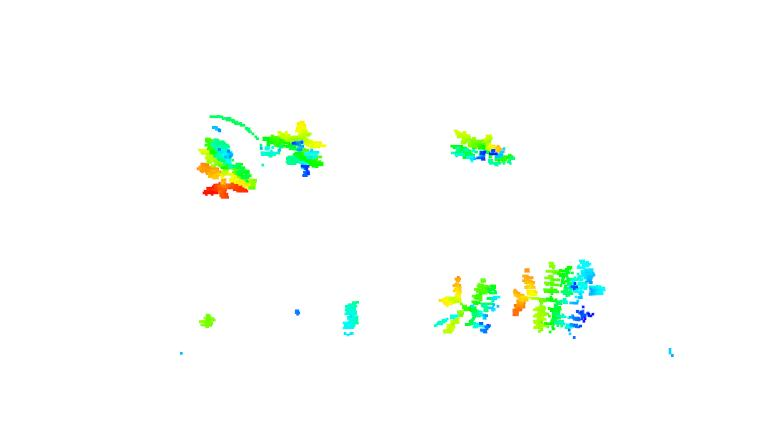chickpea: (511, 257, 608, 340), (430, 275, 504, 337), (191, 134, 258, 198), (262, 117, 325, 178), (446, 125, 515, 171), (337, 298, 363, 338)
